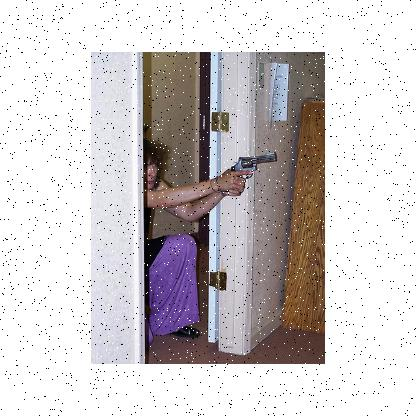gun: (225, 150, 275, 196)
